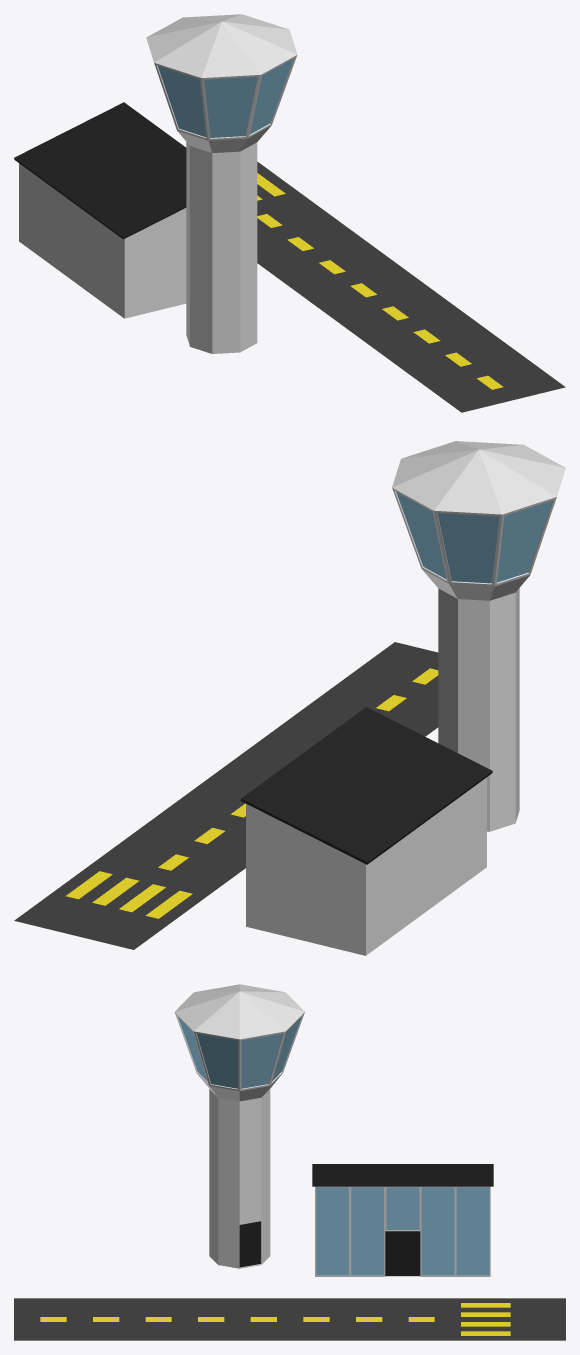
Rendered from Airport.fbx.
3 views of the same model, one above another, from view 1: azimuth 30°, elevation 25°; view 2: azimuth 150°, elevation 25°; view 3: azimuth 270°, elevation 25° (orthographic). The views are drawn at different scales.
Visible parts, largest first — view 1: Airport; view 2: Airport; view 3: Airport.
Boxes of the visible parts, left/top/right/bottom form: Airport: left=14, top=14, right=565, bottom=412; Airport: left=14, top=441, right=565, bottom=955; Airport: left=14, top=984, right=565, bottom=1340.
Size of the model in its own units: 106 by 116 by 220.
